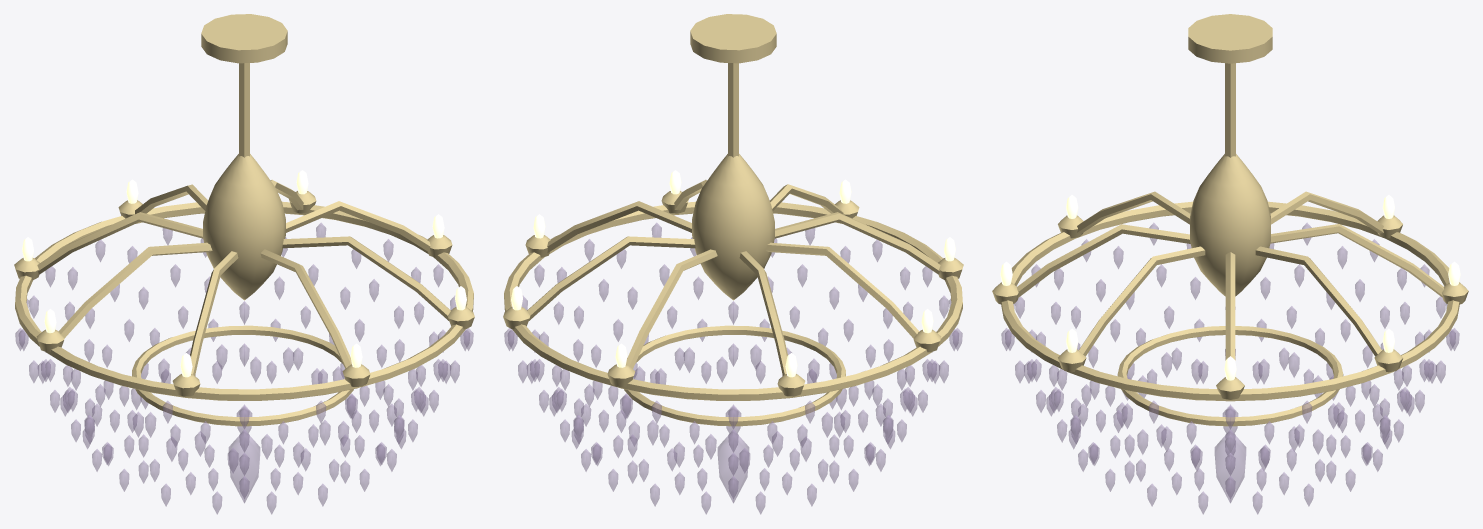
Rendered from chandelier_gold_cascade.glb.
The picture shows the model from 3 angles, left to right: view 1: azimuth 30°, elevation 25°; view 2: azimuth 150°, elevation 25°; view 3: azimuth 270°, elevation 25°; orthographic projection.
Parts seen in each view (by area): view 1: chandelier_gold_cascade; view 2: chandelier_gold_cascade; view 3: chandelier_gold_cascade.
Part boxes in pixels (x1=…): chandelier_gold_cascade: x1=14, y1=14, x2=474, y2=514; chandelier_gold_cascade: x1=503, y1=14, x2=963, y2=514; chandelier_gold_cascade: x1=992, y1=14, x2=1468, y2=514.
Bounding box in the file's own units: 1.32 × 1.44 × 1.32.
